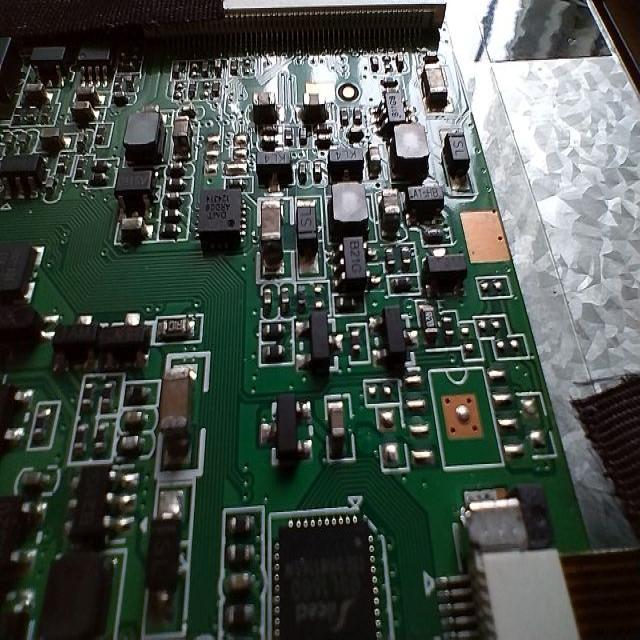capacitor: (162, 353, 200, 476), (254, 196, 290, 278), (324, 393, 348, 466), (376, 186, 405, 238), (418, 64, 450, 110), (374, 187, 402, 234), (16, 464, 58, 494), (278, 282, 296, 322), (367, 143, 390, 172), (260, 283, 278, 313), (160, 204, 190, 222), (232, 576, 253, 600), (125, 411, 152, 429), (165, 163, 194, 176), (158, 223, 185, 234), (166, 176, 187, 190)
resistor: (220, 602, 257, 627), (438, 312, 461, 348), (226, 511, 259, 536), (257, 347, 295, 367), (225, 542, 257, 563), (389, 274, 419, 292), (257, 322, 292, 336), (93, 153, 119, 169), (75, 154, 90, 180), (90, 172, 112, 188), (60, 154, 74, 174)
